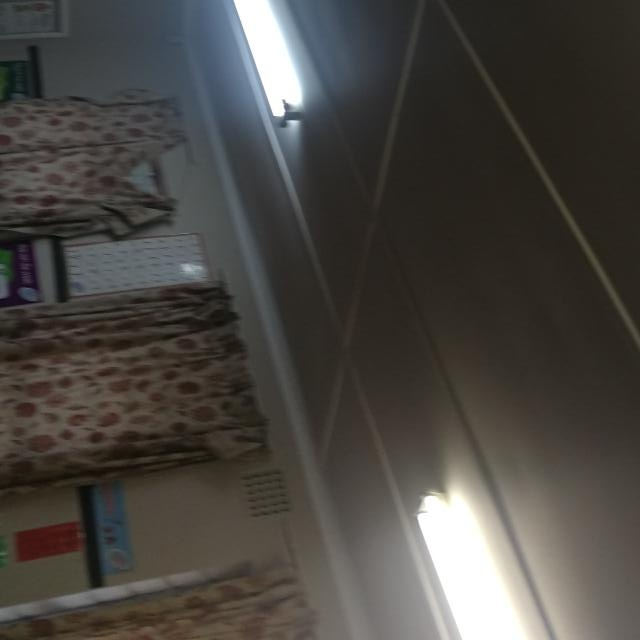fluorescent tube: (183, 0, 345, 155), (392, 411, 500, 640)
